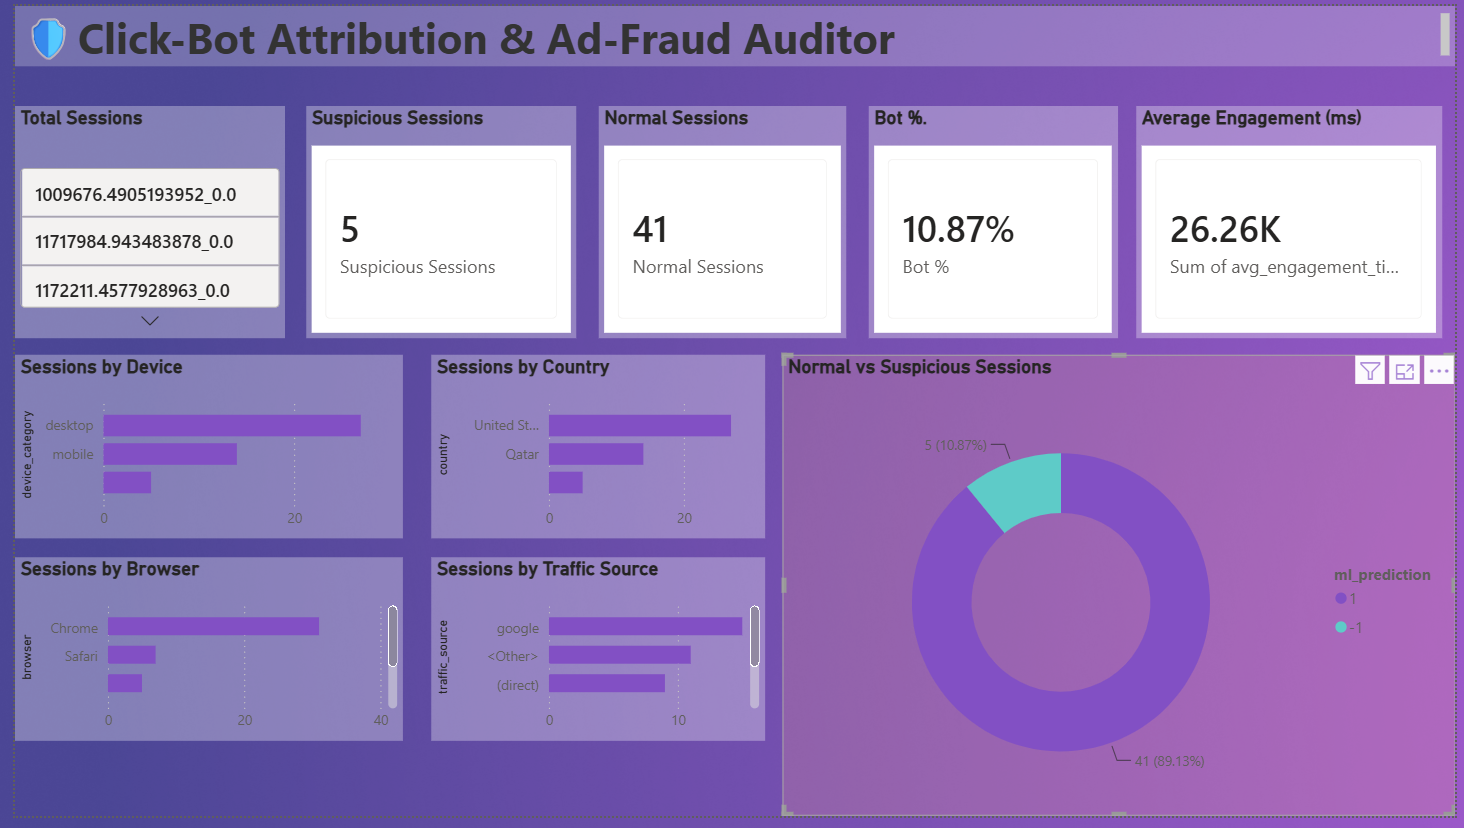

The dashboard page shown, as its layout file describes it:
{"tool":"powerbi","page":{"name":"Page 1","canvas":[1280,720],"ordinal":0},"visuals":[{"type":"cardVisual","title":"Total Sessions","fields":{"Rows":["session_ml_anomalies.session_id"]},"box":[0,88.3,240,206.7],"z":0},{"type":"cardVisual","title":"Suspicious Sessions","fields":{"Data":["session_ml_anomalies.Suspicious Sessions"]},"box":[258.3,88.3,240,206.7],"z":1000},{"type":"cardVisual","title":"Normal Sessions","fields":{"Data":["session_ml_anomalies.Normal Sessions"]},"box":[518.3,88.3,220,206.7],"z":2000},{"type":"cardVisual","title":"Average Engagement (ms)","fields":{"Data":["Sum(session_ml_anomalies.avg_engagement_time)"]},"box":[996.7,88.3,271.7,206.7],"z":3000},{"type":"cardVisual","title":"Bot %.","fields":{"Data":["session_ml_anomalies.Bot %"]},"box":[758.3,88.3,221.7,206.7],"z":4000},{"type":"donutChart","title":"Normal vs Suspicious Sessions","fields":{"Category":["session_ml_anomalies.ml_prediction"],"Y":["Count(session_ml_anomalies.session_id)"]},"box":[681.7,310,598.3,410],"z":5000},{"type":"clusteredBarChart","title":"Sessions by Device","fields":{"Category":["session_ml_anomalies.device_category"],"Y":["CountNonNull(session_ml_anomalies.session_id)"]},"box":[0,310,345,163.3],"z":6000},{"type":"clusteredBarChart","title":"Sessions by Country","fields":{"Category":["session_ml_anomalies.country"],"Y":["CountNonNull(session_ml_anomalies.session_id)"]},"box":[370,310,296.7,163.3],"z":7000},{"type":"clusteredBarChart","title":"Sessions by Browser","fields":{"Category":["session_ml_anomalies.browser"],"Y":["CountNonNull(session_ml_anomalies.session_id)"]},"box":[0,490,345,163.3],"z":8000},{"type":"clusteredBarChart","title":"Sessions by Traffic Source","fields":{"Category":["session_ml_anomalies.traffic_source"],"Y":["CountNonNull(session_ml_anomalies.session_id)"]},"box":[370,490,296.7,163.3],"z":9000},{"type":"textbox","box":[0,0,1280,53.3],"z":10001}]}

Visuals, with their boxes in screenshot pixels (x1, y1, x2, y2), scaled from the page's 1280x720 canvas onto the 1464x828 screenshot:
"Total Sessions" cardVisual: pyautogui.locateOnScreen(0, 102, 274, 339)
"Suspicious Sessions" cardVisual: pyautogui.locateOnScreen(295, 102, 570, 339)
"Normal Sessions" cardVisual: pyautogui.locateOnScreen(593, 102, 844, 339)
"Average Engagement (ms)" cardVisual: pyautogui.locateOnScreen(1140, 102, 1451, 339)
"Bot %." cardVisual: pyautogui.locateOnScreen(867, 102, 1121, 339)
"Normal vs Suspicious Sessions" donutChart: pyautogui.locateOnScreen(780, 356, 1463, 827)
"Sessions by Device" clusteredBarChart: pyautogui.locateOnScreen(0, 356, 395, 544)
"Sessions by Country" clusteredBarChart: pyautogui.locateOnScreen(423, 356, 763, 544)
"Sessions by Browser" clusteredBarChart: pyautogui.locateOnScreen(0, 564, 395, 751)
"Sessions by Traffic Source" clusteredBarChart: pyautogui.locateOnScreen(423, 564, 763, 751)
textbox: pyautogui.locateOnScreen(0, 0, 1463, 61)
